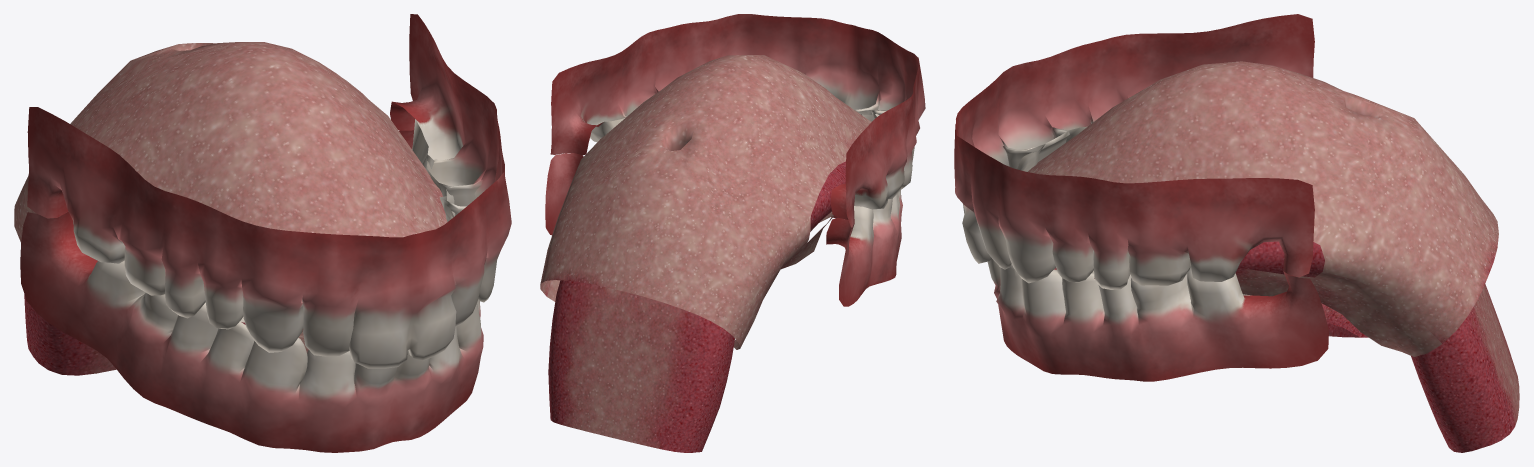
The model's file is teethobservation.glb.
The picture shows the model from 3 angles, left to right: view 1: azimuth 30°, elevation 25°; view 2: azimuth 150°, elevation 25°; view 3: azimuth 270°, elevation 25°; orthographic projection. The views are drawn at different scales.
Visible parts, largest first — view 1: Object_2; view 2: Object_2; view 3: Object_2.
Boxes of the visible parts, x1,y1,x2,y2 form: Object_2: [14, 14, 511, 452]; Object_2: [540, 14, 925, 452]; Object_2: [954, 14, 1519, 452].
Size of the model in its own units: 1.22 by 1.18 by 1.71.
Materials: 1 (1 with a texture image).
